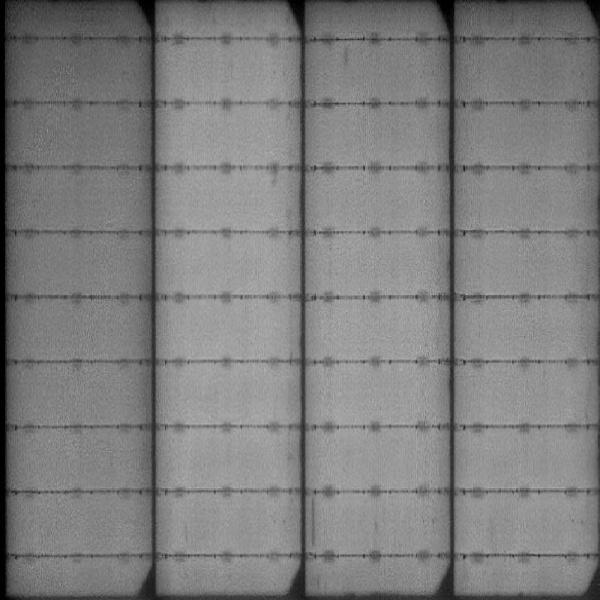scratch: (309, 493, 320, 548)
